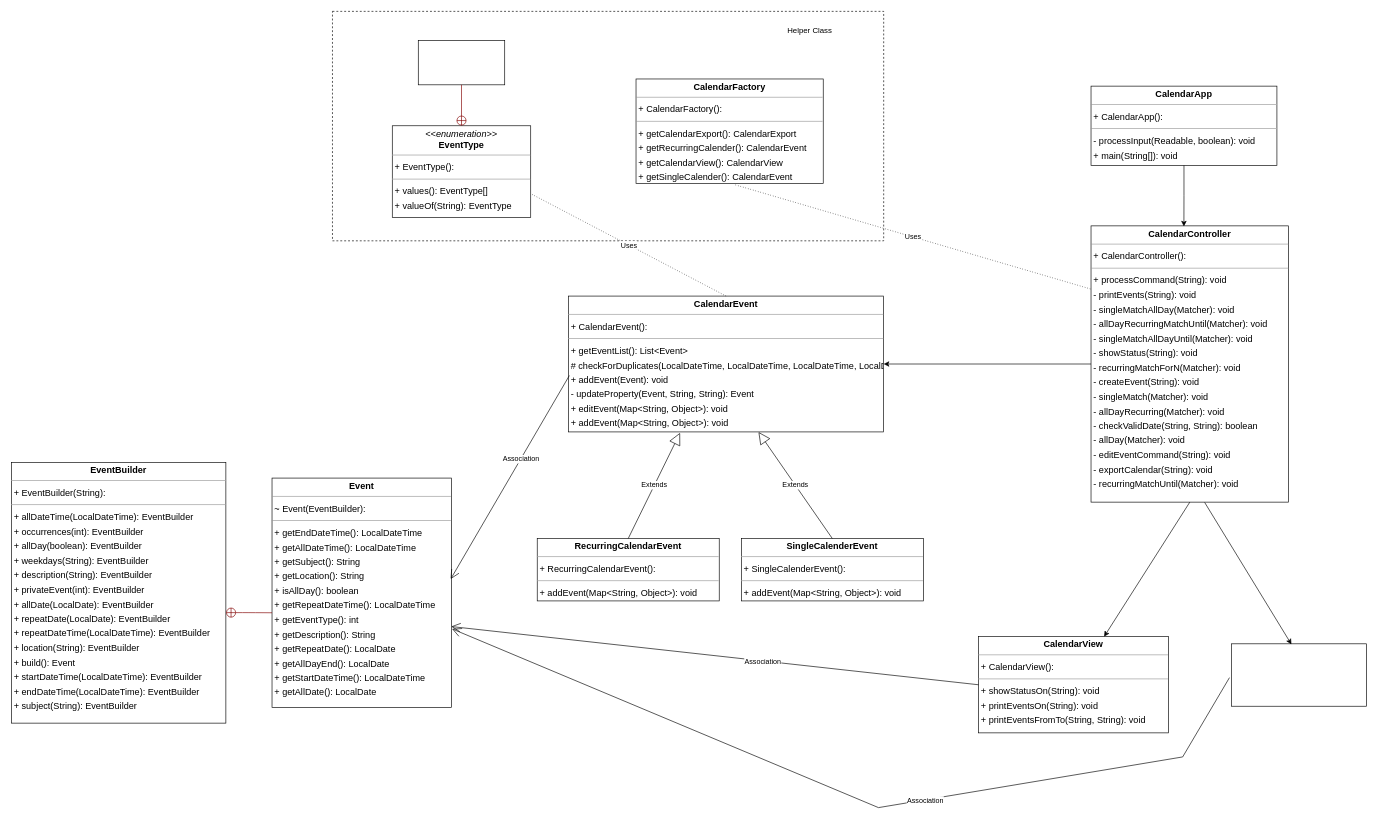
Image size: 1378x828. Some labels were removed from this diagram. Each missing label, with the centre of its shape:
"CalendarExport + CalendarExport(): + generateCSV(String): void" goes at point (1299, 674).
"EventKeys + EventKeys():" goes at point (461, 62).
